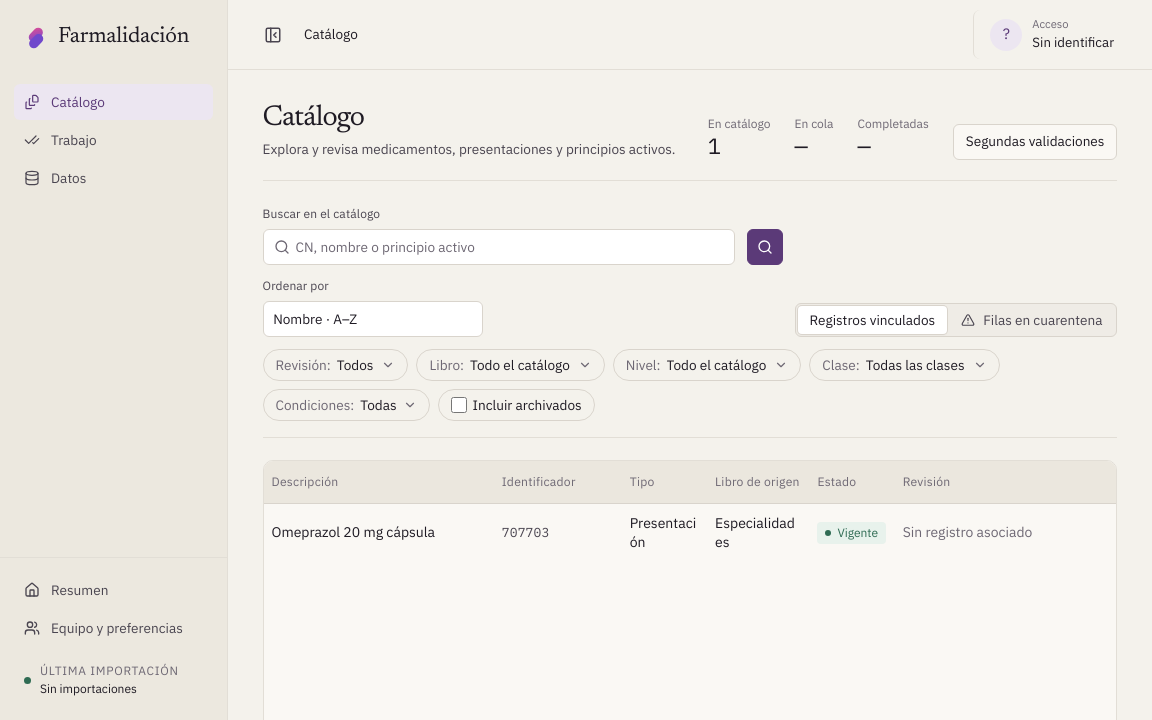
Test: separación entre datos reales y DEMO › explica una búsqueda sin resultados en lugar de dejar la tabla vacía
Check: the button "Omeprazol 20 mg cápsula" is shown, box [272, 522, 486, 543]
In the search field: [498, 247] box [262, 229, 734, 265], type "inexistente"
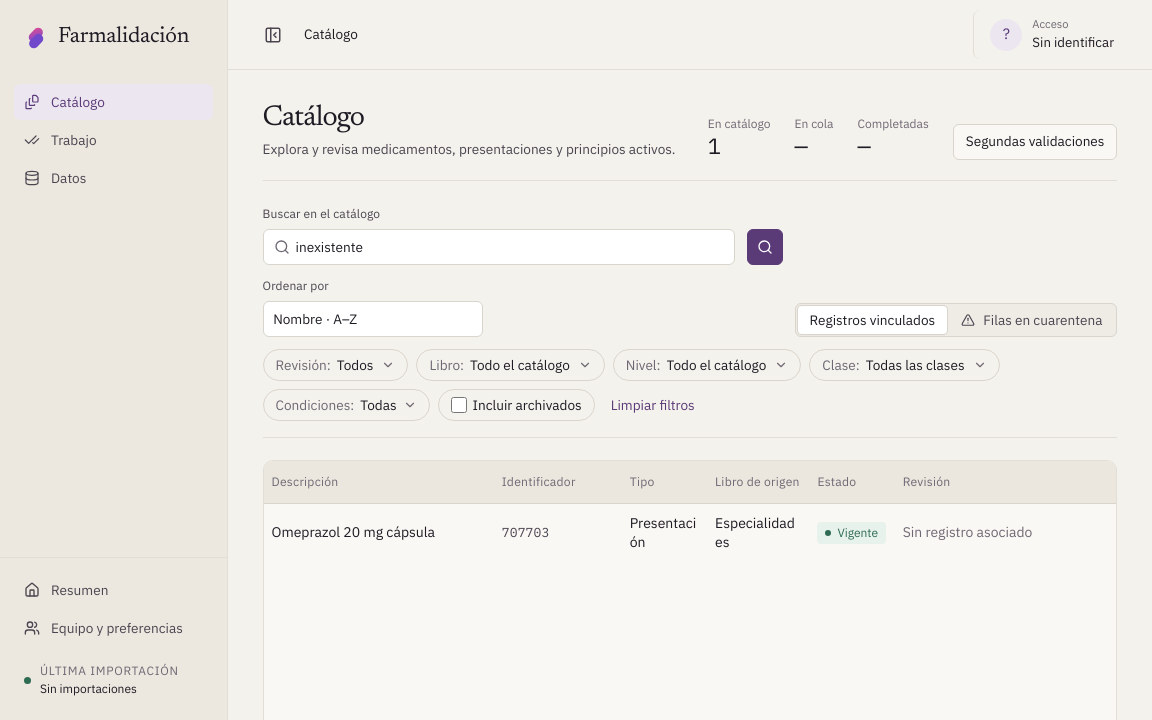
Click the button named "Buscar": [764, 247] box [746, 229, 782, 265]
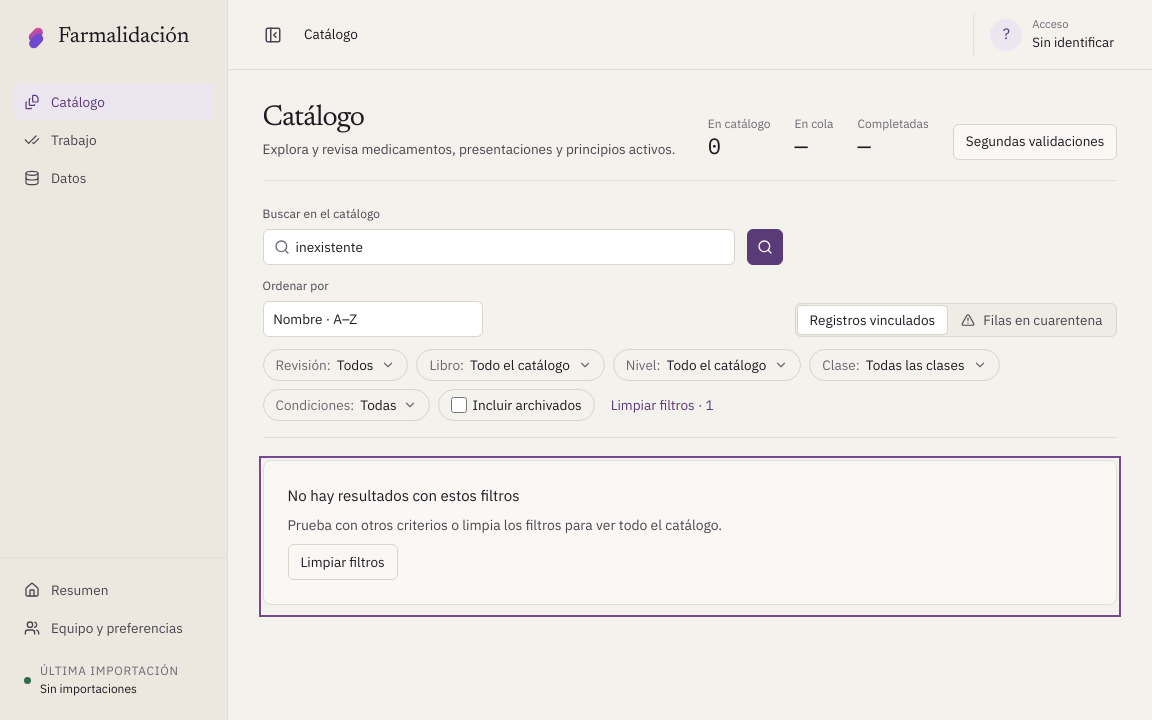
Check: the text "No hay resultados con estos filtros" is shown, box [288, 485, 519, 508]
Check: the button "Limpiar filtros · 1" is shown, box [603, 389, 722, 421]
